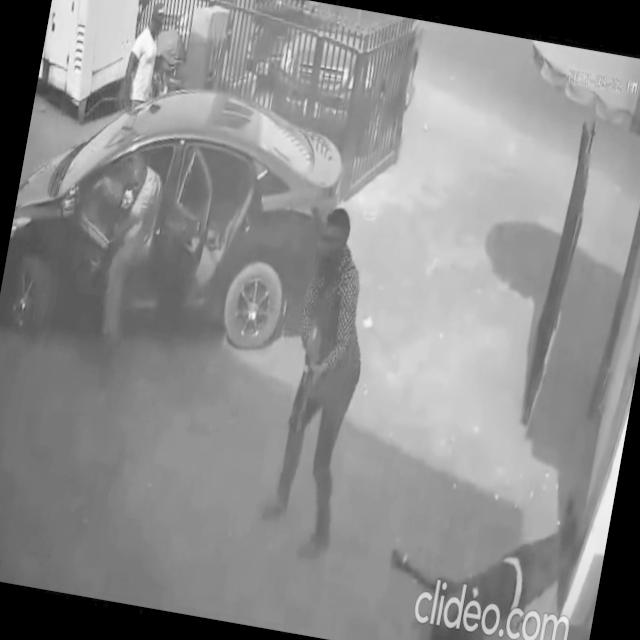gun: (290, 319, 326, 440)
person: (374, 463, 585, 640), (84, 148, 171, 388), (117, 0, 170, 115)
person with a gun: (252, 200, 390, 566)
